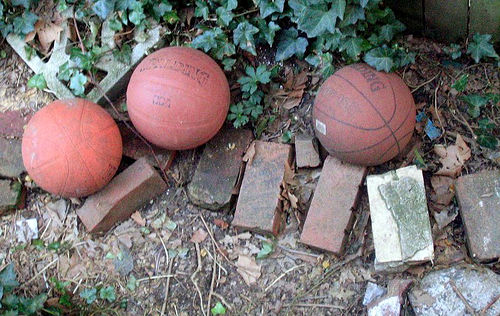basketball: (126, 46, 229, 151), (313, 63, 415, 164), (22, 98, 123, 198)
